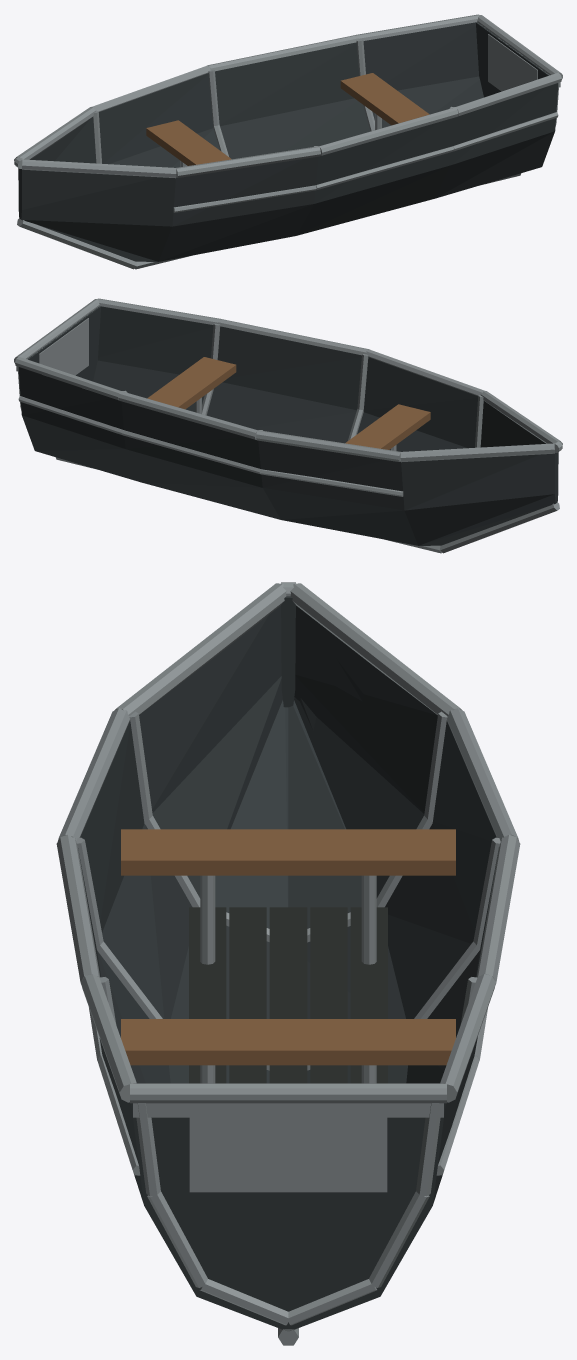
File: boatHull-lv3.glb
3 renders of one model, top to bottom at view 1: azimuth 30°, elevation 25°; view 2: azimuth 150°, elevation 25°; view 3: azimuth 270°, elevation 25°, orthographic. The views are drawn at different scales.
Visible parts, largest first — view 1: outer-hull-strake-6, inner-hull-strake-1, outer-hull-strake-5, inner-hull-strake-2, continuous-starboard-gunwale (×4), transverse-timber-bench (×2), continuous-port-gunwale (×4), longitudinal-side-reinforcement (×3), reinforced-engine-transom-plate, flat-transom, rising-bow-keel, transom-rim (+4 smaller); view 2: outer-hull-strake-1, inner-hull-strake-6, outer-hull-strake-2, inner-hull-strake-5, continuous-port-gunwale (×4), transverse-timber-bench (×2), continuous-starboard-gunwale (×4), longitudinal-side-reinforcement (×3), reinforced-engine-transom-plate, flat-transom, rising-bow-keel, transom-rim (+4 smaller); view 3: transverse-timber-bench (×2), flat-transom, inner-hull-strake-5, inner-hull-strake-6, inner-hull-strake-2, inner-hull-strake-1, reinforced-engine-transom-plate, continuous-port-gunwale (×4), continuous-starboard-gunwale (×4), inner-hull-strake-3, inner-hull-strake-4, interior-frame-4 (+13 smaller).
Boxes of the visible parts, x1,y1,x2,y2 form: outer-hull-strake-6: (22, 83, 558, 226); inner-hull-strake-1: (31, 22, 478, 164); outer-hull-strake-5: (21, 131, 554, 261); inner-hull-strake-2: (109, 76, 483, 167); continuous-starboard-gunwale (×4): (22, 72, 561, 178); transverse-timber-bench (×2): (146, 73, 429, 165); continuous-port-gunwale (×4): (14, 14, 479, 160); longitudinal-side-reinforcement (×3): (173, 112, 558, 212); reinforced-engine-transom-plate: (488, 34, 537, 91); flat-transom: (475, 22, 549, 97); rising-bow-keel: (17, 218, 136, 269); transom-rim: (477, 15, 562, 78); outer-hull-strake-1: (18, 367, 554, 510); inner-hull-strake-6: (98, 306, 545, 448); outer-hull-strake-2: (22, 415, 555, 545); inner-hull-strake-5: (93, 360, 467, 451); continuous-port-gunwale (×4): (15, 356, 554, 462); transverse-timber-bench (×2): (147, 357, 430, 449); continuous-starboard-gunwale (×4): (97, 298, 562, 444); longitudinal-side-reinforcement (×3): (18, 396, 403, 496); reinforced-engine-transom-plate: (39, 318, 88, 375); flat-transom: (27, 306, 101, 381); rising-bow-keel: (440, 502, 559, 553); transom-rim: (14, 299, 99, 362); transverse-timber-bench (×2): (121, 829, 455, 1065); flat-transom: (131, 1103, 445, 1330); inner-hull-strake-5: (97, 676, 282, 1083); inner-hull-strake-6: (79, 605, 281, 977); inner-hull-strake-2: (294, 676, 479, 1083); inner-hull-strake-1: (295, 605, 497, 977); reinforced-engine-transom-plate: (189, 1117, 387, 1192); continuous-port-gunwale (×4): (290, 583, 520, 1102); continuous-starboard-gunwale (×4): (56, 583, 286, 1102); inner-hull-strake-3: (288, 700, 407, 1083); inner-hull-strake-4: (169, 700, 288, 1083); interior-frame-4: (136, 1103, 440, 1325).
Size of what is drawn, in the model's own units: 2 by 0.5192 by 0.7917.
